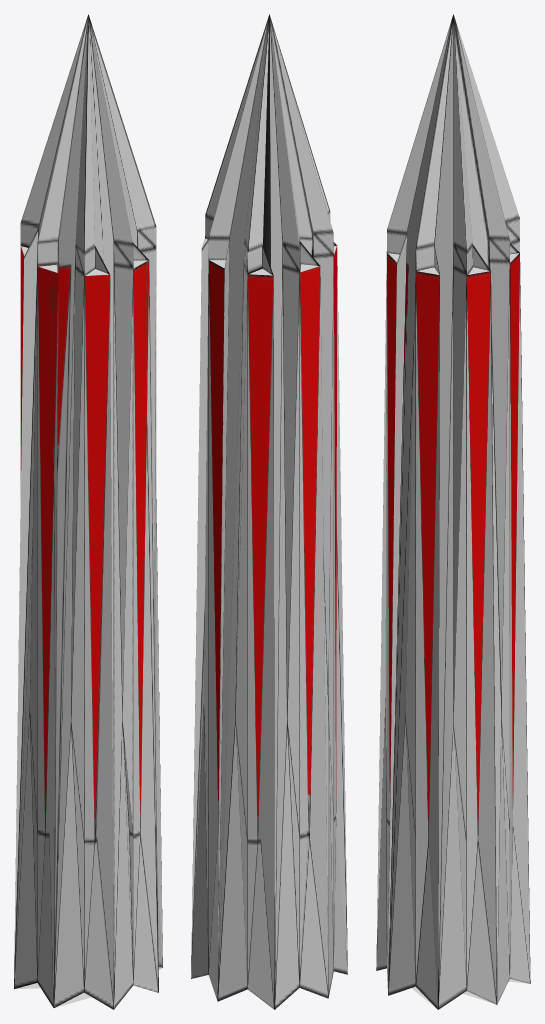
The model's file is testrocket.fbx.
3 views of the same model, side by side, from view 1: azimuth 30°, elevation 25°; view 2: azimuth 150°, elevation 25°; view 3: azimuth 270°, elevation 25° (orthographic).
Parts seen in each view (by area): view 1: Cylinder; view 2: Cylinder; view 3: Cylinder.
Part boxes in pixels (x1,y1,x2,y2): Cylinder: (14,14,162,1009); Cylinder: (191,14,347,1009); Cylinder: (376,14,530,1009).
Size of the model in its own units: 45.4 by 313 by 45.4.
